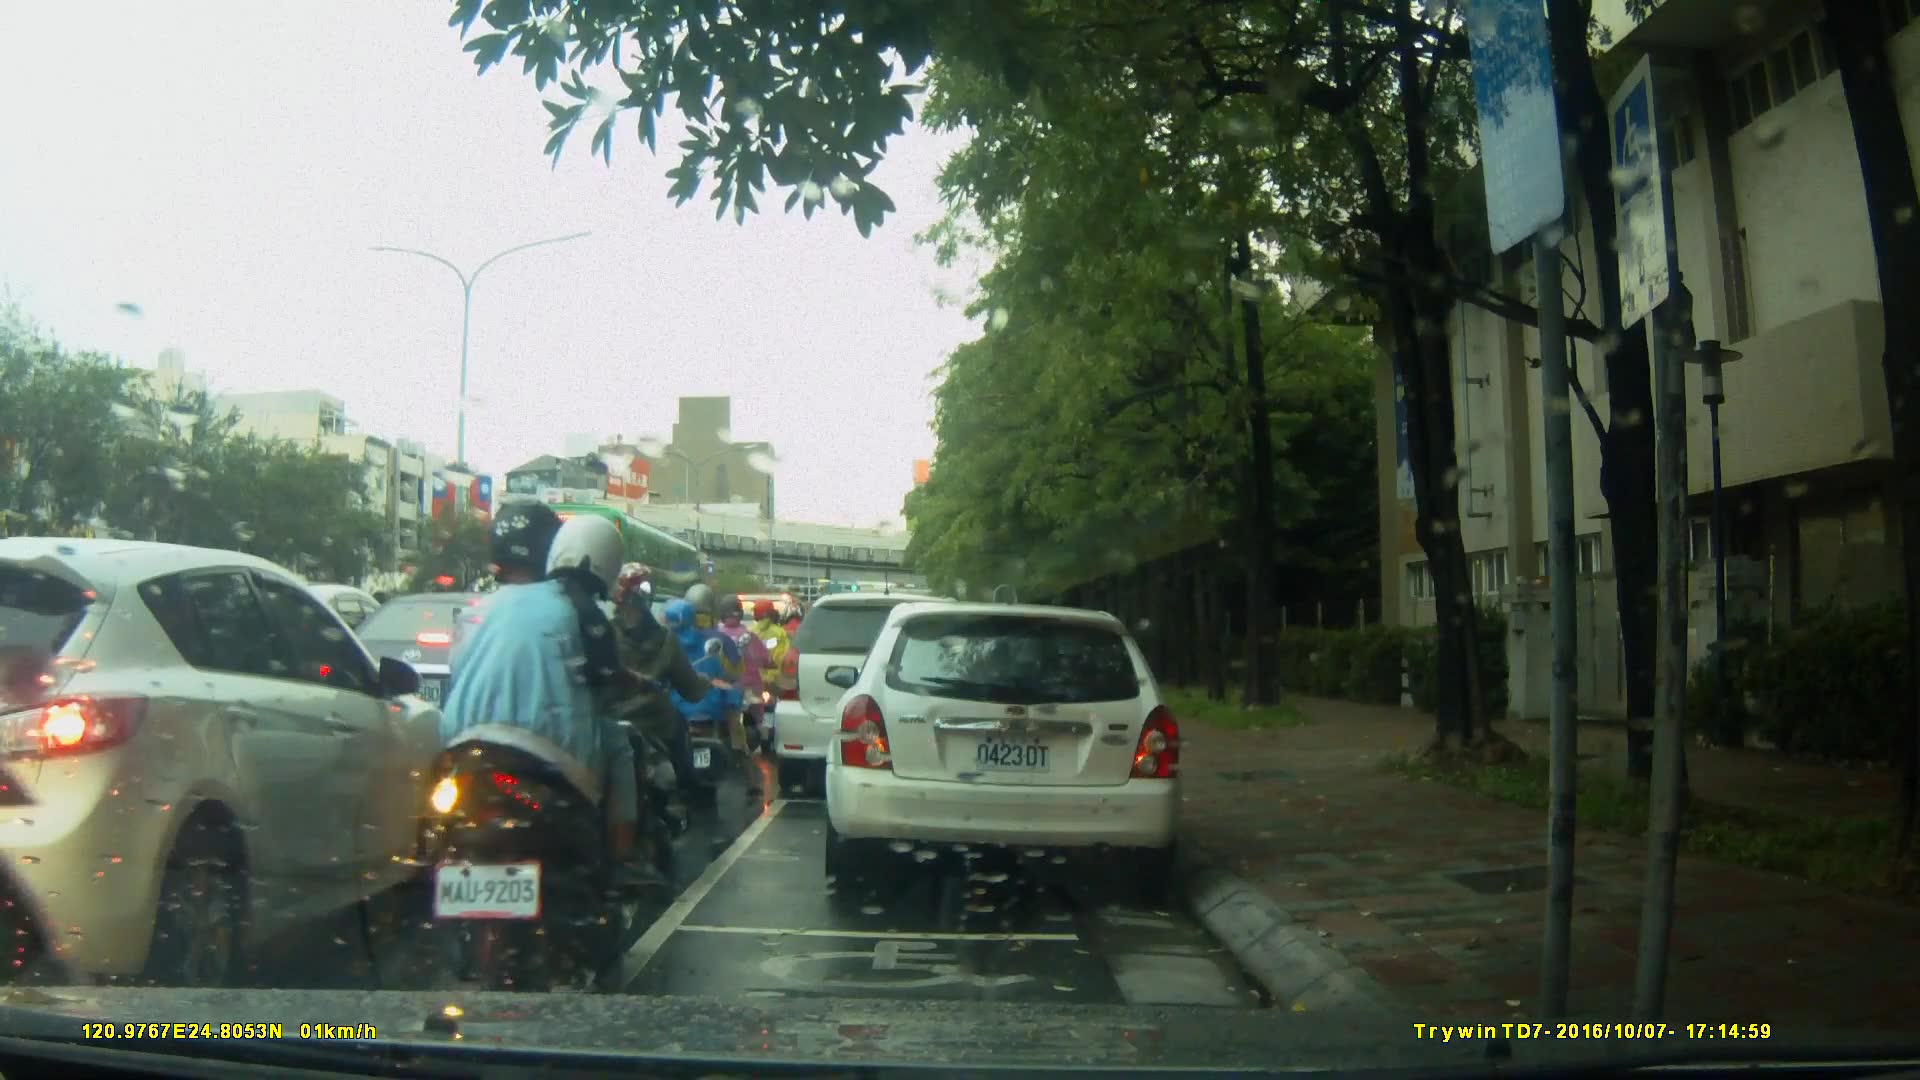rider: (438, 500, 658, 997), (594, 565, 725, 862), (655, 587, 740, 801), (698, 598, 771, 764), (739, 598, 798, 748)
vehicle: (4, 535, 465, 988), (831, 592, 1196, 897), (312, 589, 629, 776), (771, 590, 999, 803), (500, 502, 709, 636)
